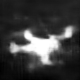plane: (9, 25, 80, 68)
